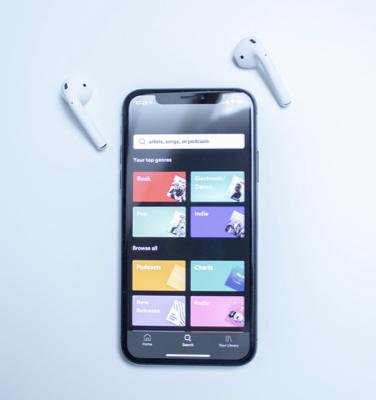Mobile Phone: (119, 87, 258, 366)
